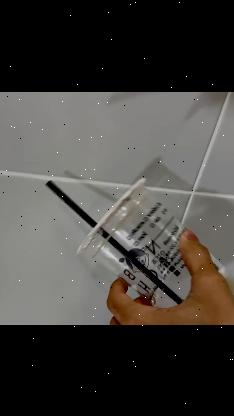Others: (65, 174, 234, 307)
